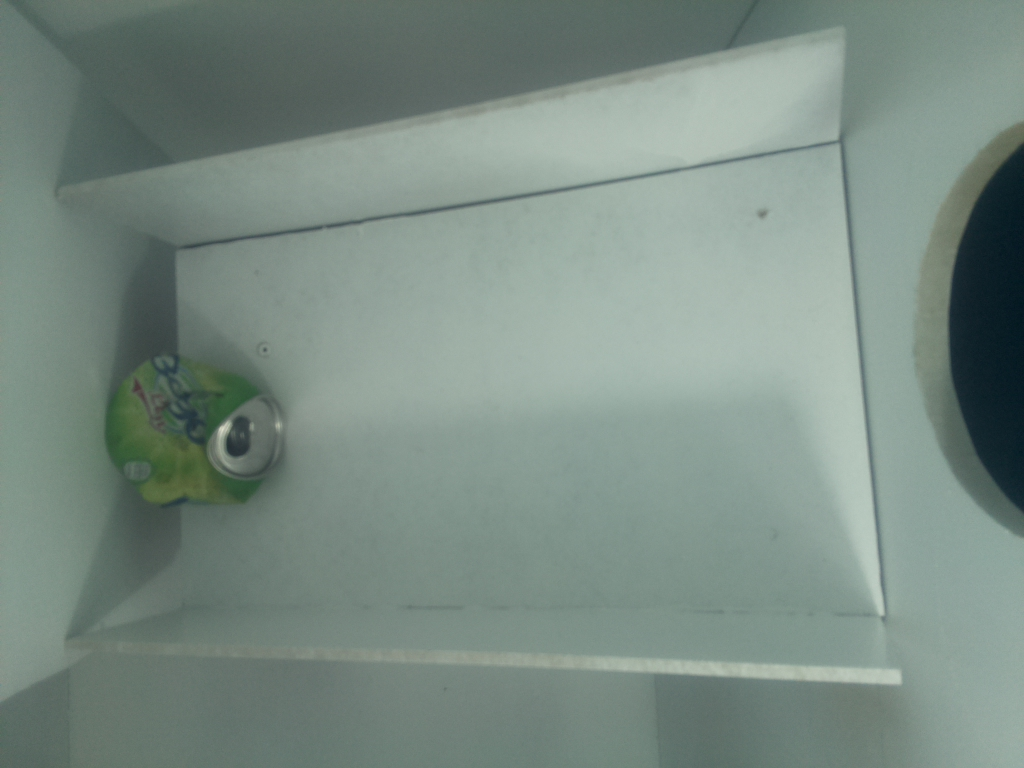kaleng: (106, 356, 288, 501)
